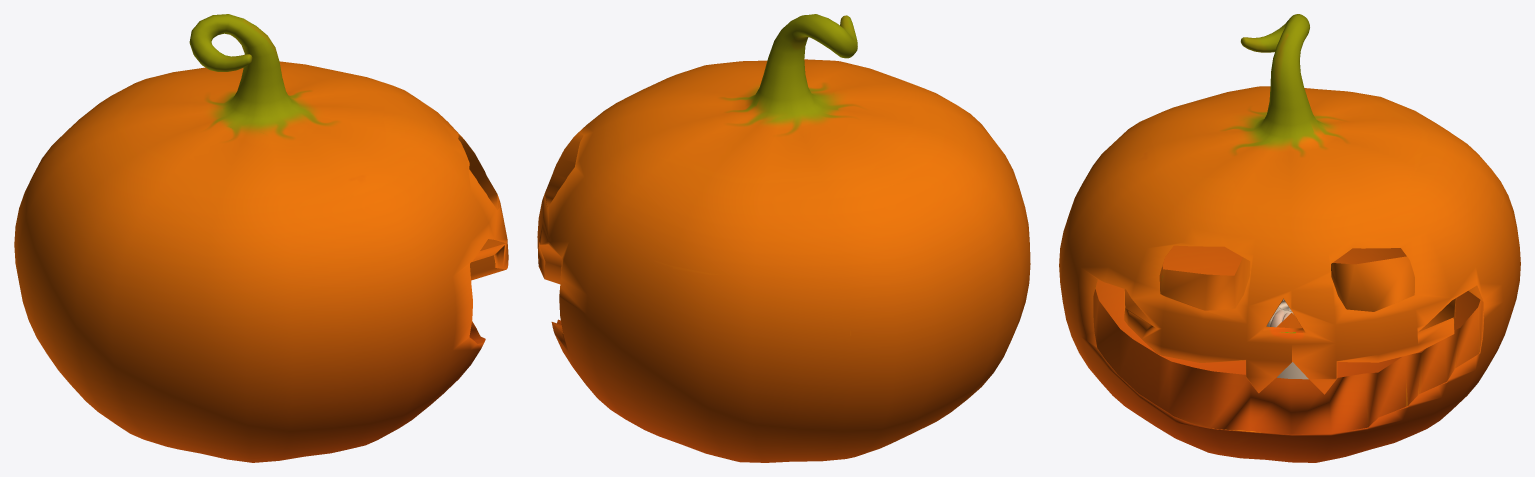
Rendered from Pumpkin.fbx.
3 renders of one model, left to right at view 1: azimuth 30°, elevation 25°; view 2: azimuth 150°, elevation 25°; view 3: azimuth 270°, elevation 25°, orthographic. The views are drawn at different scales.
Parts seen in each view (by area): view 1: Sphere.002; view 2: Sphere.002; view 3: Sphere.002, Cylinder.001.
Boxes of the visible parts, x1=… form: Sphere.002: x1=14, y1=14, x2=508, y2=462; Sphere.002: x1=537, y1=14, x2=1030, y2=462; Sphere.002: x1=1059, y1=14, x2=1520, y2=462; Cylinder.001: x1=1266, y1=299, x2=1308, y2=379.
Size of the model in its own units: 198 by 184 by 198.
3 materials, 1 textured.
